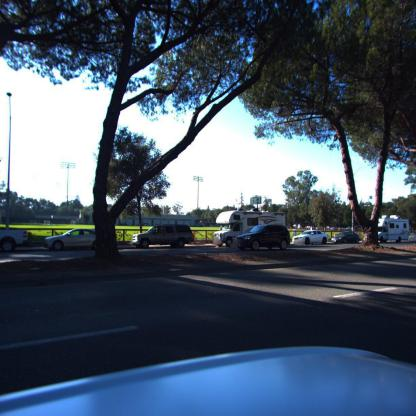car: (132, 224, 194, 250), (238, 223, 290, 250), (45, 229, 96, 252), (293, 231, 328, 246), (330, 233, 360, 244)
truck: (214, 208, 284, 248), (379, 217, 411, 244), (1, 228, 29, 253)
